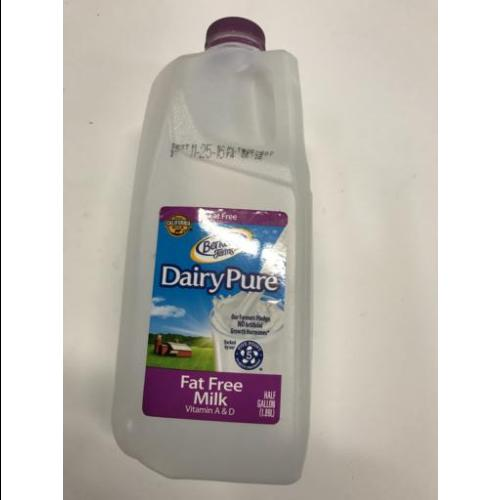plastic: (110, 17, 314, 487)
